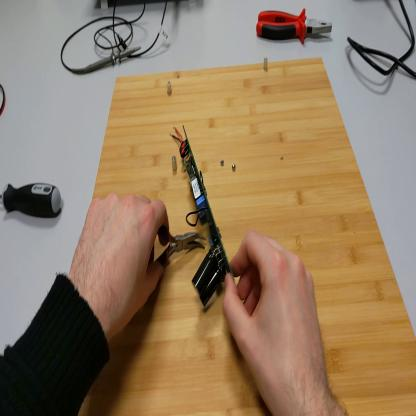hand: (225, 230, 332, 407), (71, 190, 169, 337)
high voltage board: (171, 125, 234, 310)
oscilloscope probe tip: (83, 44, 141, 72)
pliers: (256, 8, 335, 50), (158, 225, 208, 265)
screwdriver-: (3, 179, 63, 221)
working area: (78, 56, 416, 415)
